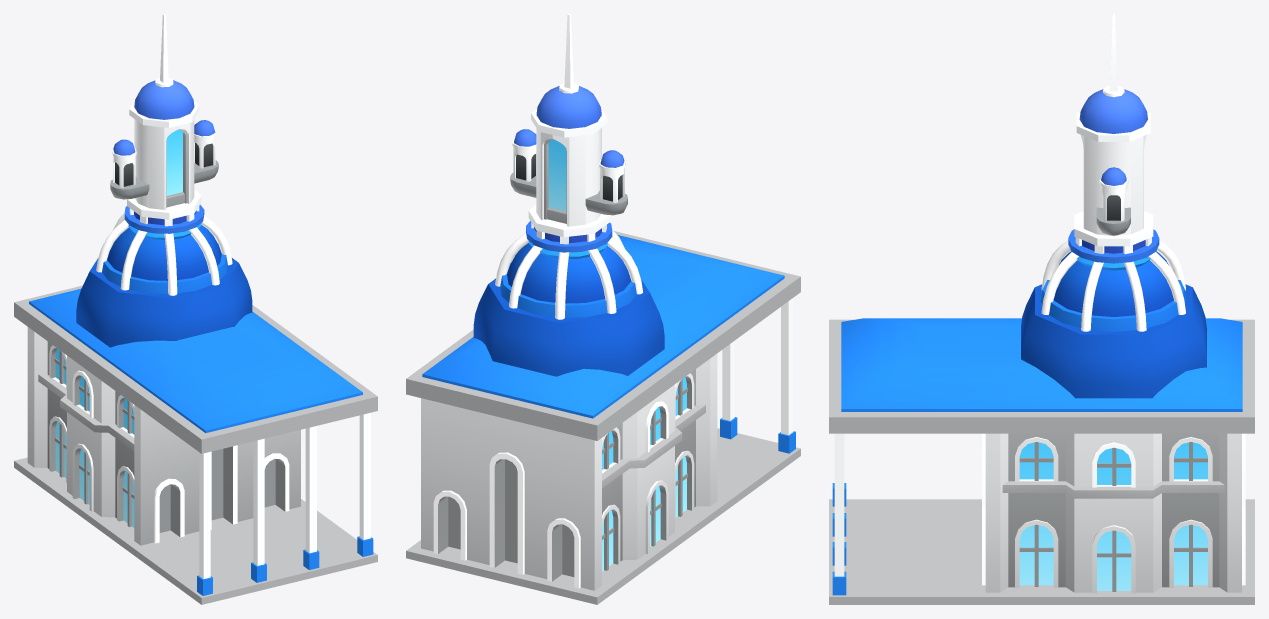
File: Building_Temple_08.glb
3 renders of one model, left to right at view 1: azimuth 30°, elevation 25°; view 2: azimuth 150°, elevation 25°; view 3: azimuth 270°, elevation 25°, orthographic. The views are drawn at different scales.
Parts seen in each view (by area): view 1: Building_Temple_08; view 2: Building_Temple_08; view 3: Building_Temple_08.
Boxes of the visible parts, left/top/right/bottom form: Building_Temple_08: left=14, top=14, right=377, bottom=604; Building_Temple_08: left=406, top=14, right=800, bottom=604; Building_Temple_08: left=829, top=14, right=1254, bottom=604.
Size of the model in its own units: 9.22 by 23.84 by 17.
Materials: 1 (1 with a texture image).
